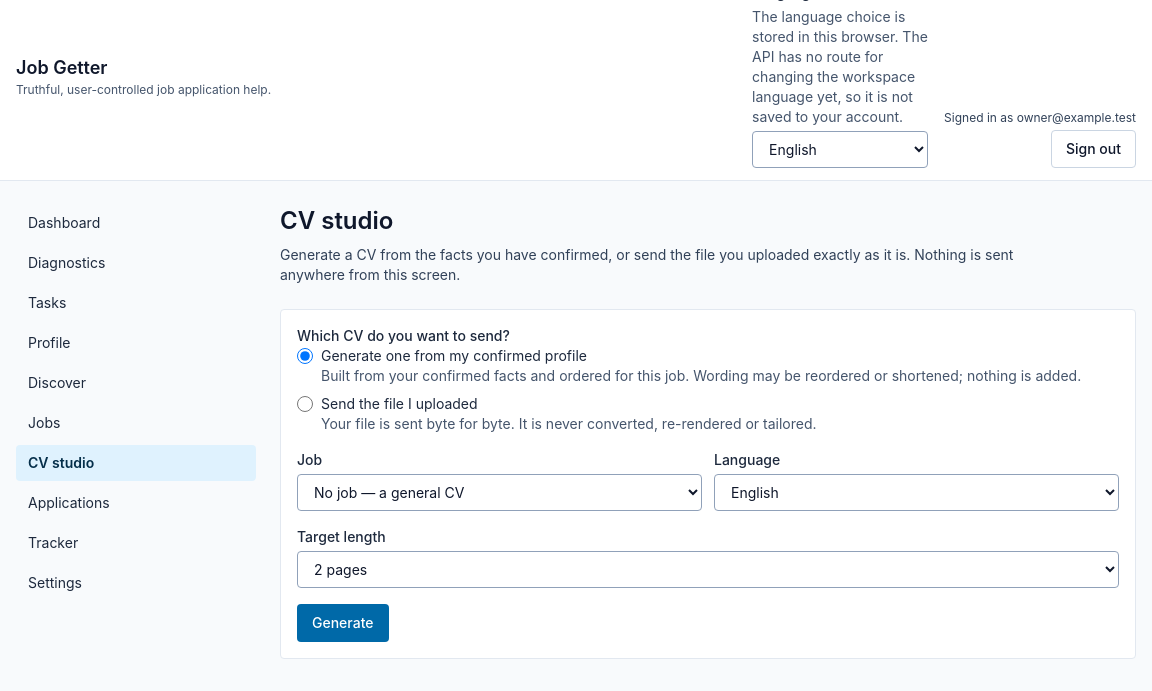
Test: the review panel › shows a removed claim with the text that was removed
Expected: the heading "CV studio" is shown, [280, 206, 393, 235]
Click the button "Generate": [343, 623] box [297, 604, 388, 642]
(page scrolled)
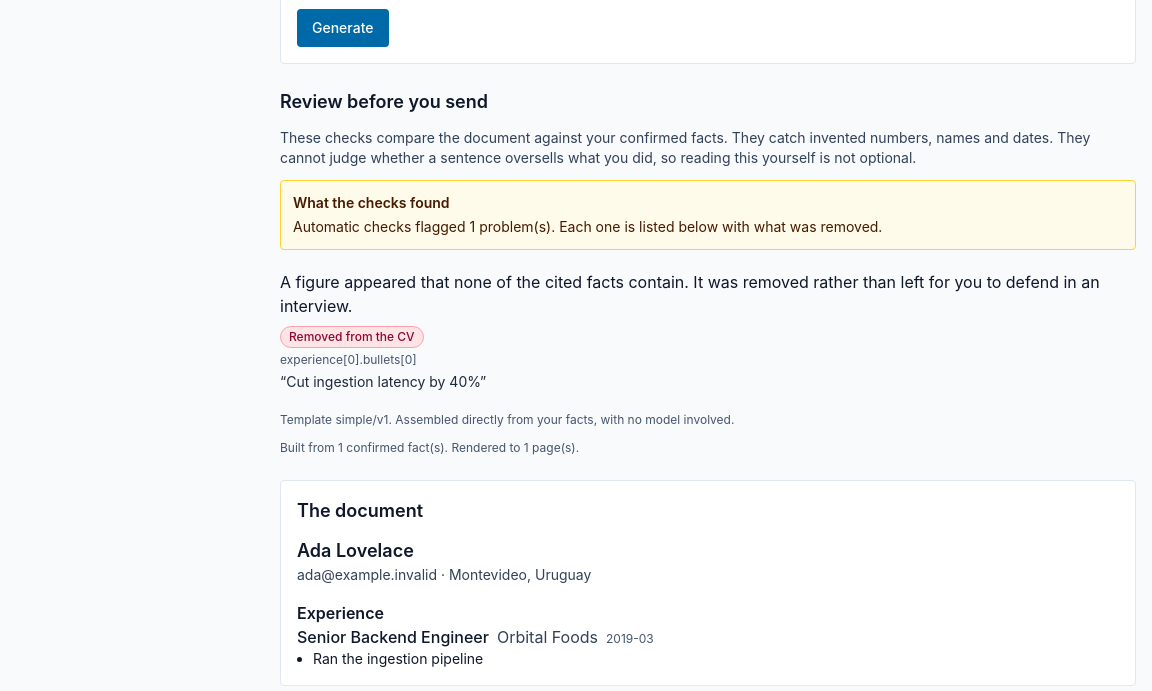
Expected: the text "Removed from the CV" is shown, [280, 326, 424, 348]
Expected: the text with test id "finding-excerpt" shows "40%", [286, 373, 480, 390]
Expected: the list item with test id "resume-finding" shows "none of the cited facts contain", [280, 272, 1100, 316]
